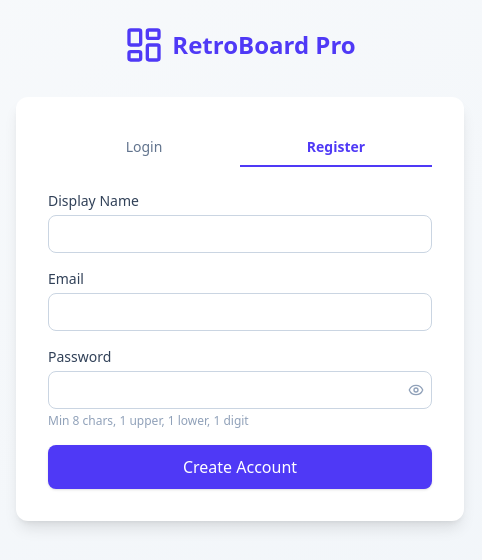
Test: RegisterPage › should validate empty display name
The image size is (482, 560).
Type "test@test.com" into the field labelled "Email" at [240, 312], box x1=48 y1=293 x2=432 y2=331
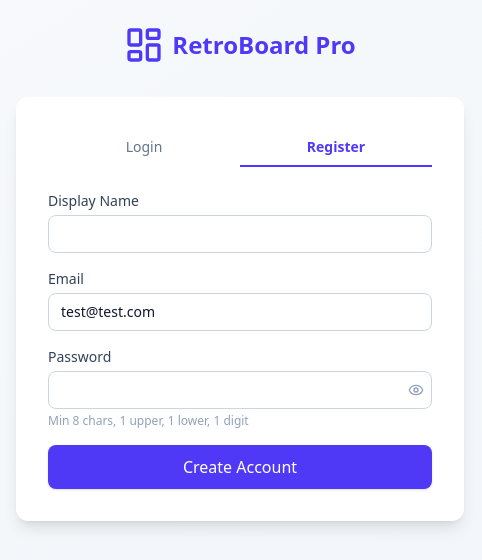
Type "StrongPass1" into the password field with id "register-password" at [240, 390], box x1=48 y1=371 x2=432 y2=409
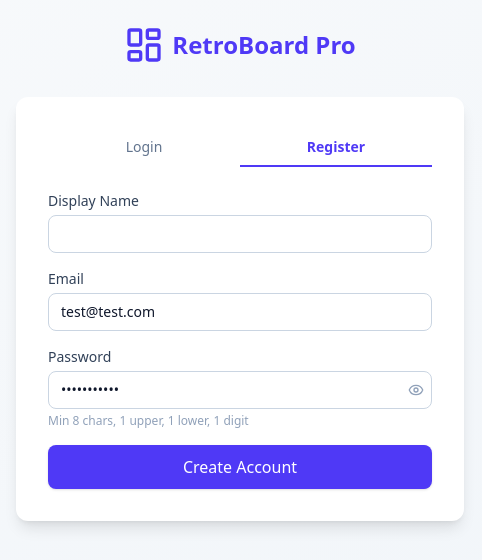
// Use form submit event directly to bypass native required validation in jsdom
Submit the form, box x1=48 y1=191 x2=432 y2=489
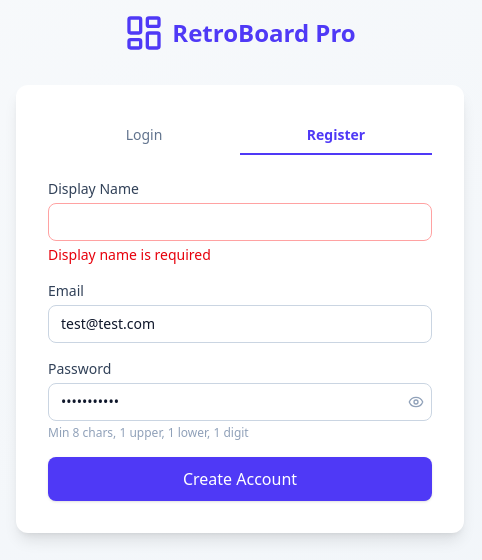
Result: the text "Display name is required" is shown at x1=48 y1=245 x2=211 y2=264
